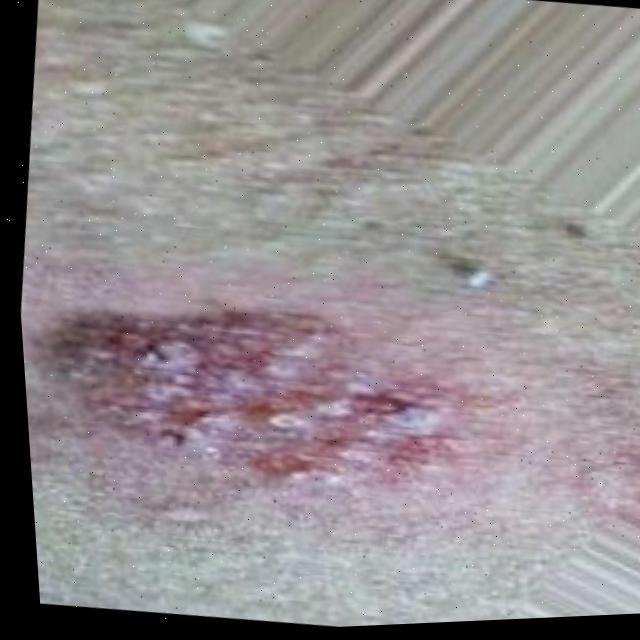Shingles: (63, 286, 460, 508)
